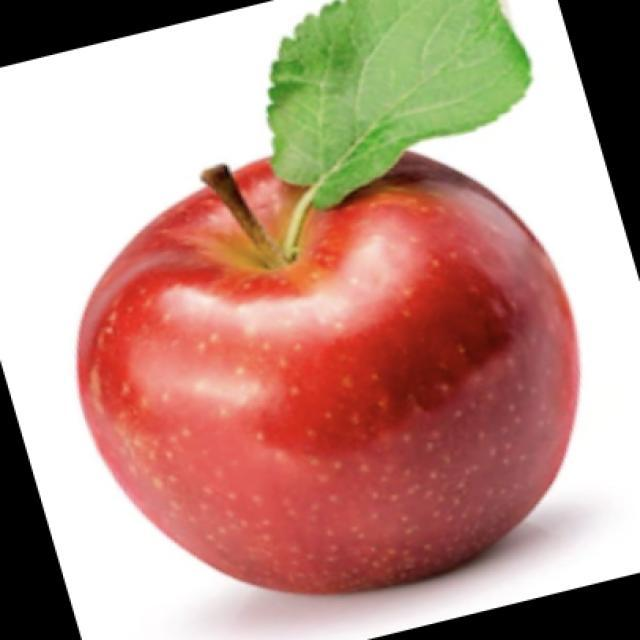Fresh Apple: (71, 143, 566, 587)
